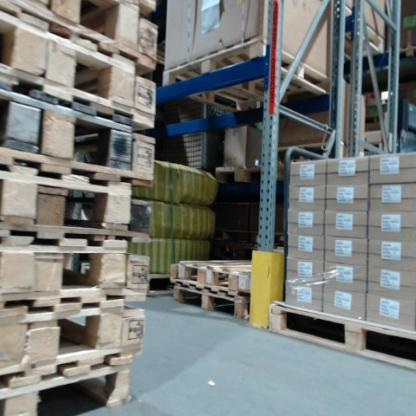pallet: (11, 15, 156, 122), (160, 36, 335, 111), (12, 92, 156, 179), (269, 298, 415, 374), (1, 171, 152, 243), (3, 245, 159, 311), (3, 311, 142, 370), (33, 6, 161, 69), (7, 356, 136, 411), (333, 2, 386, 64), (169, 260, 254, 296), (169, 283, 251, 320)
